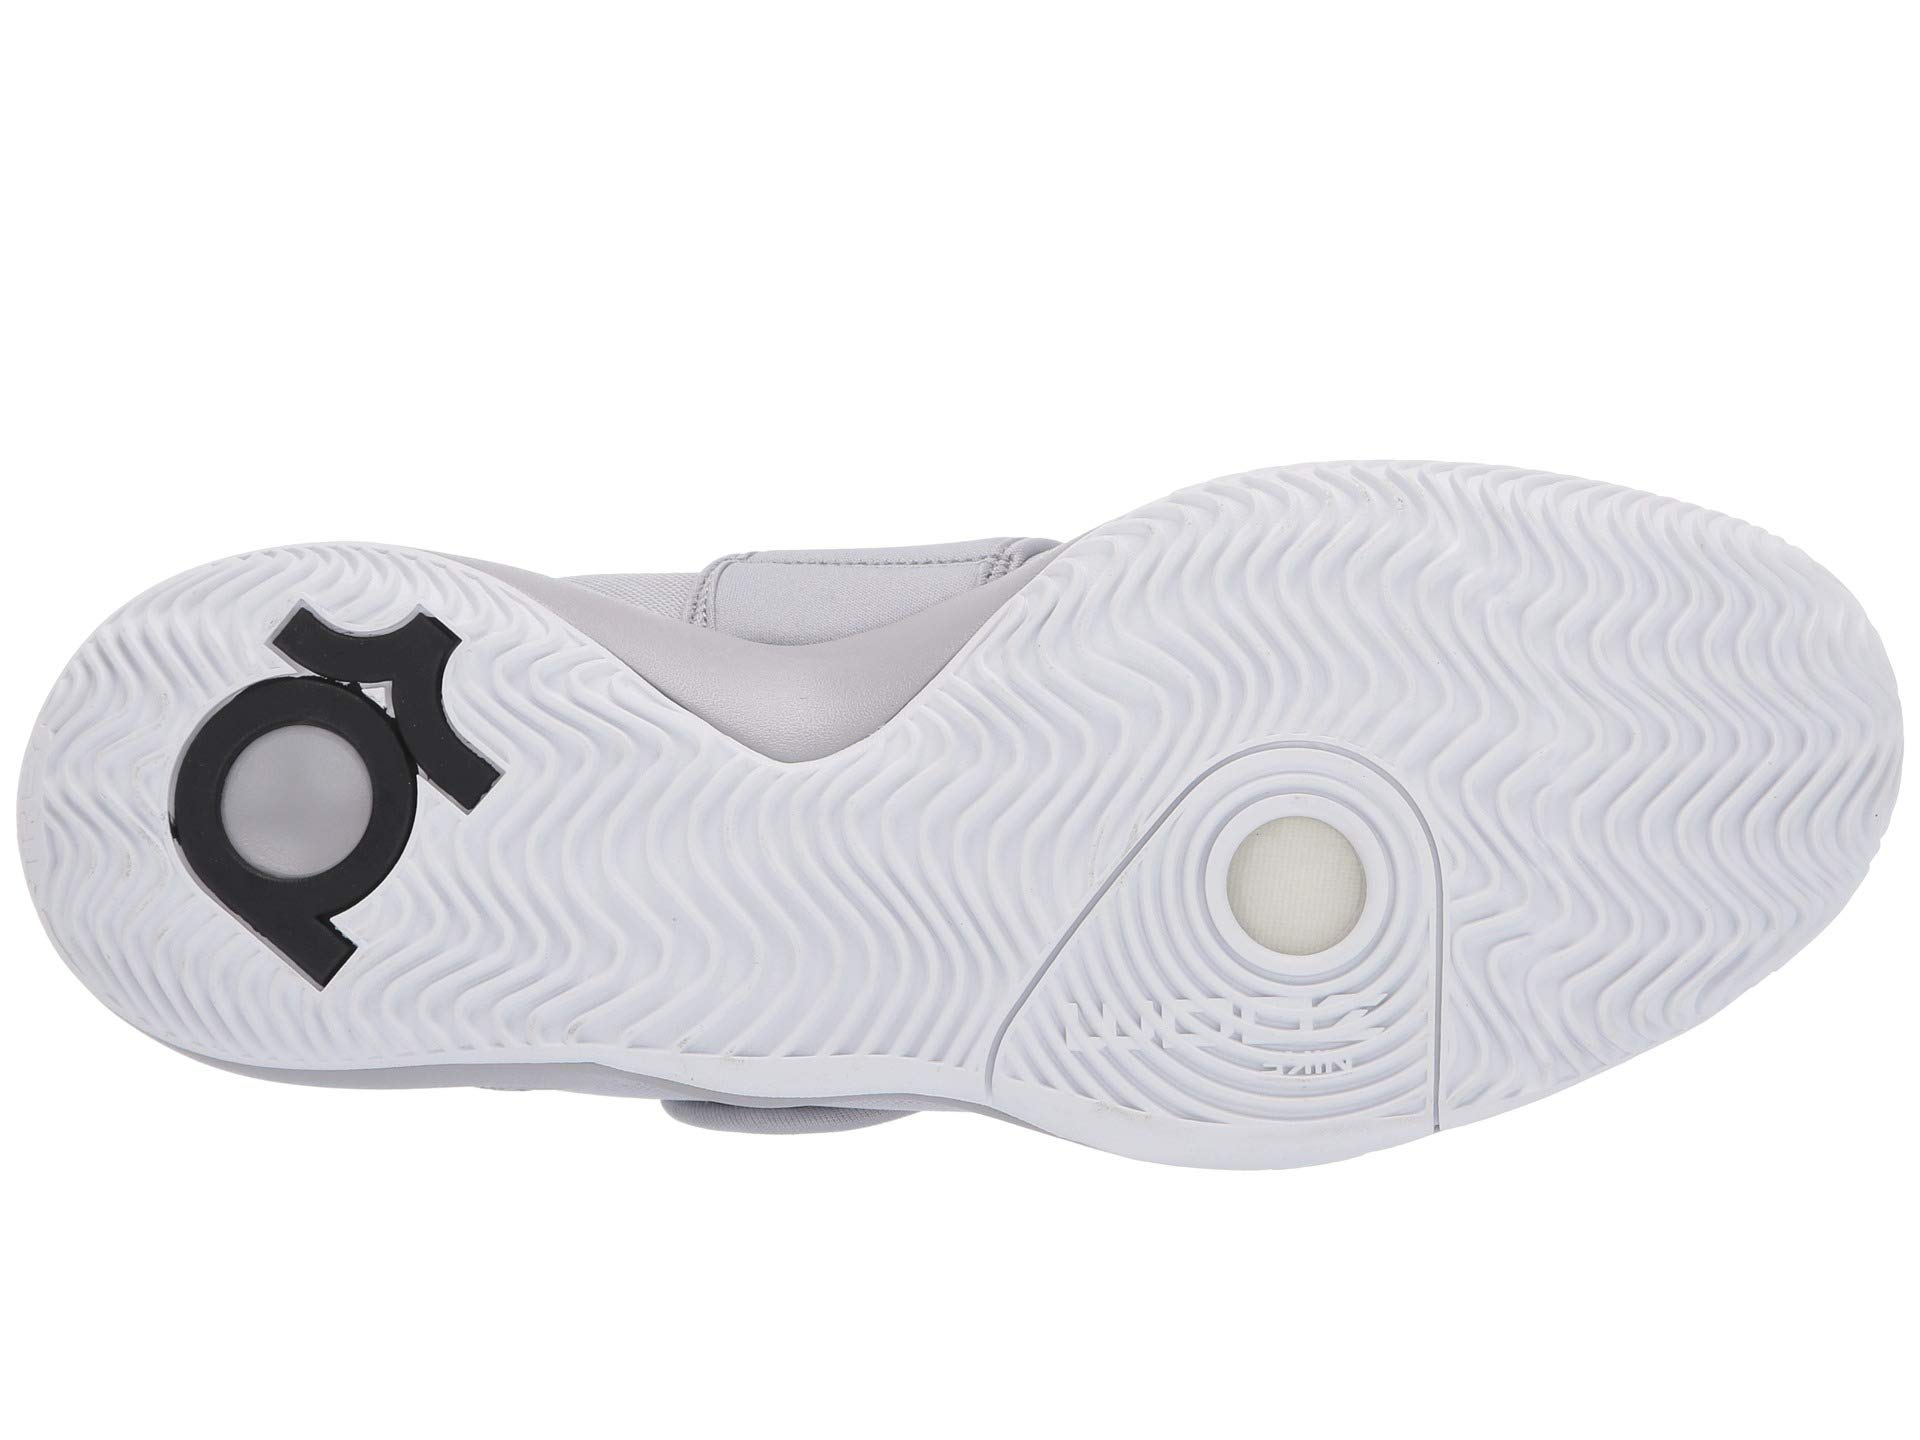chevron: (955, 714, 1465, 1124), (1448, 578, 1798, 888)
circle: (955, 714, 1465, 1124)
text: (955, 714, 1465, 1124)
